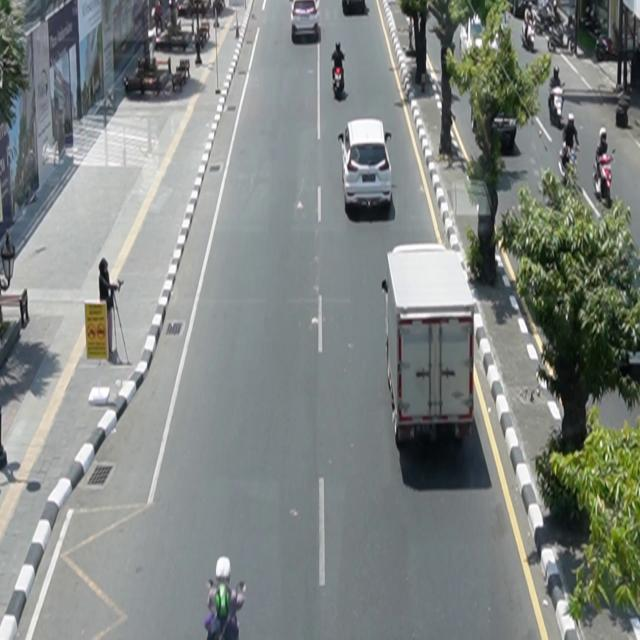car: (339, 119, 394, 212), (291, 1, 322, 44)
truck: (382, 243, 477, 449)
